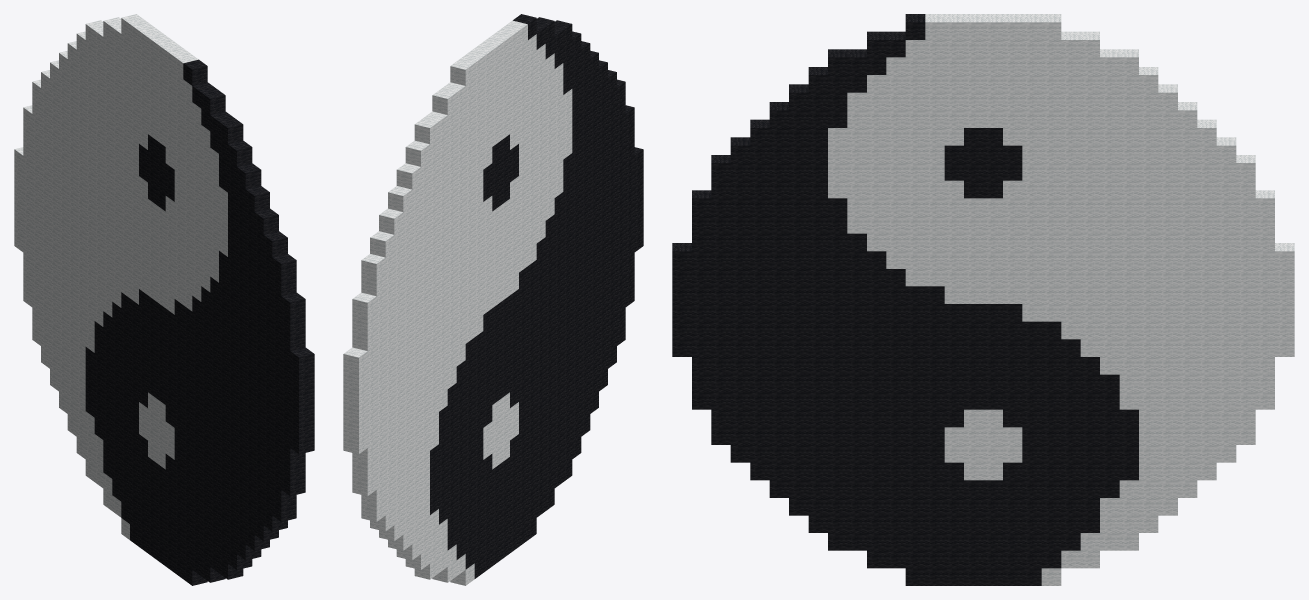
File: Mineways2Skfb.obj
The picture shows the model from 3 angles, left to right: view 1: azimuth 30°, elevation 25°; view 2: azimuth 150°, elevation 25°; view 3: azimuth 270°, elevation 25°; orthographic projection. The views are drawn at different scales.
Parts seen in each view (by area): view 1: yin-yang.schematic__-22_0_-38_to_44_255_65; view 2: yin-yang.schematic__-22_0_-38_to_44_255_65; view 3: yin-yang.schematic__-22_0_-38_to_44_255_65.
Part boxes in pixels (bbox=[...]): yin-yang.schematic__-22_0_-38_to_44_255_65: bbox=[14, 14, 314, 585]; yin-yang.schematic__-22_0_-38_to_44_255_65: bbox=[343, 14, 643, 585]; yin-yang.schematic__-22_0_-38_to_44_255_65: bbox=[672, 14, 1294, 585].
Size of the model in its own units: 0.0312 by 1 by 1.
Materials: 1 (1 with a texture image).
